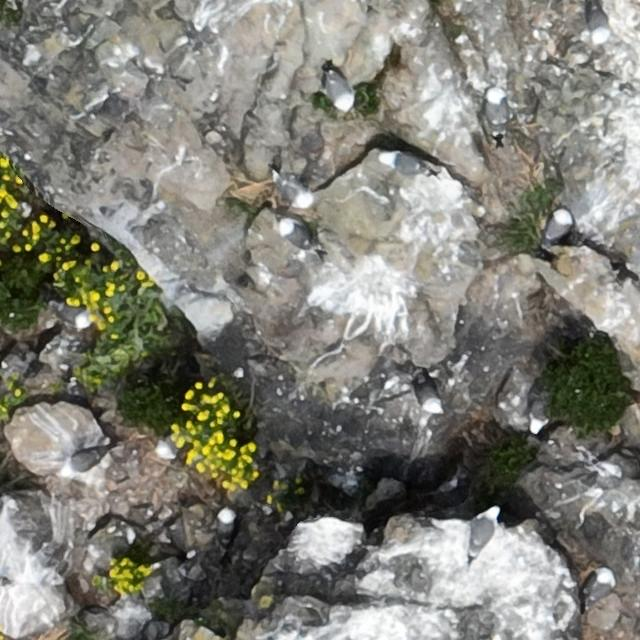umineko: (273, 216, 319, 254), (582, 5, 617, 42), (277, 175, 312, 210), (469, 516, 496, 556), (63, 449, 105, 471), (158, 429, 186, 460), (384, 152, 422, 174), (545, 210, 569, 243), (328, 74, 351, 107), (54, 304, 88, 326), (416, 383, 438, 412), (590, 570, 612, 598), (217, 507, 235, 539), (485, 92, 501, 128), (530, 399, 547, 432)
